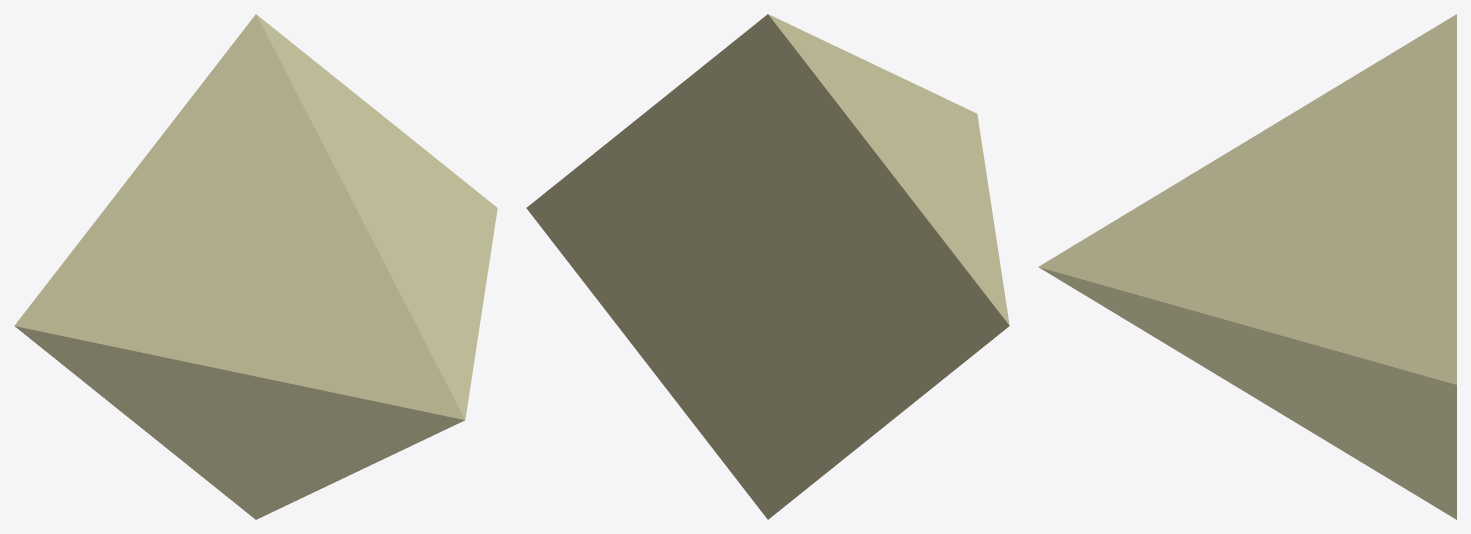
The picture shows the model from 3 angles, left to right: view 1: azimuth 30°, elevation 25°; view 2: azimuth 150°, elevation 25°; view 3: azimuth 270°, elevation 25°; orthographic projection.
Visible parts, largest first — view 1: geometry_0; view 2: geometry_0; view 3: geometry_0.
Boxes of the visible parts, bbox=[...] form: geometry_0: bbox=[14, 14, 497, 519]; geometry_0: bbox=[526, 14, 1009, 519]; geometry_0: bbox=[1038, 14, 1456, 519].
Size of the model in its own units: 20 by 20 by 15.
